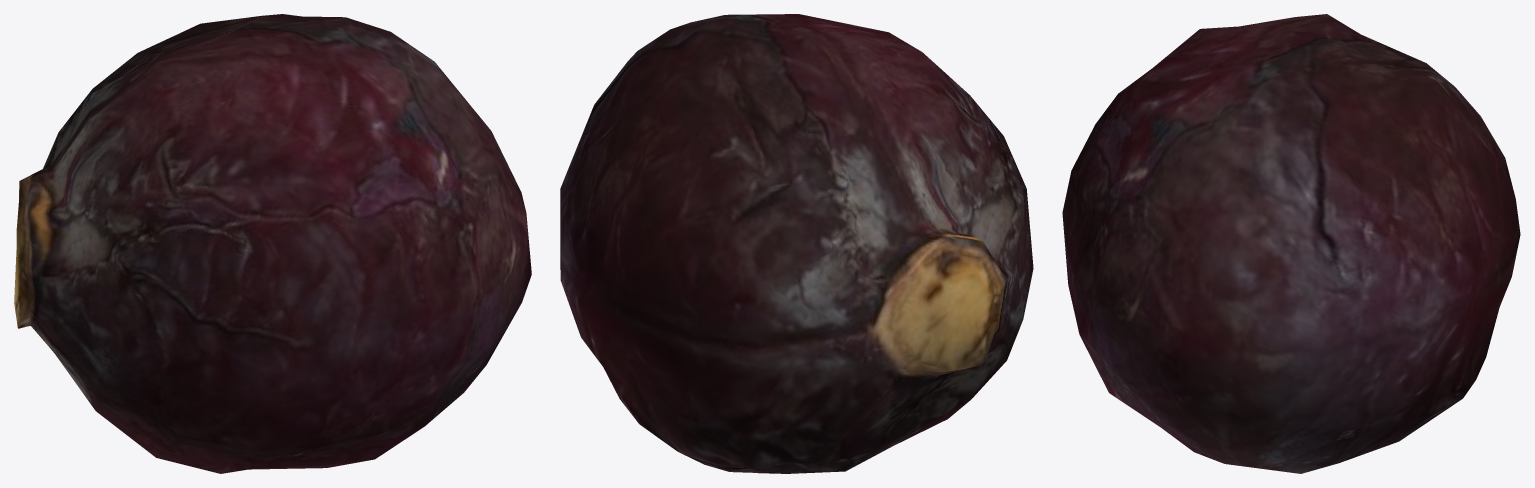
The model's file is A74_Cabbage_low.fbx.
3 views of the same model, side by side, from view 1: azimuth 30°, elevation 25°; view 2: azimuth 150°, elevation 25°; view 3: azimuth 270°, elevation 25° (orthographic). The views are drawn at different scales.
Parts seen in each view (by area): view 1: A74_Cabbage_low; view 2: A74_Cabbage_low; view 3: A74_Cabbage_low.
Boxes of the visible parts, bbox=[...] form: A74_Cabbage_low: bbox=[14, 14, 531, 473]; A74_Cabbage_low: bbox=[560, 14, 1033, 473]; A74_Cabbage_low: bbox=[1062, 14, 1520, 473].
Bounding box in the file's own units: 13.89 × 12.85 × 12.56.
1 material, 1 textured.
